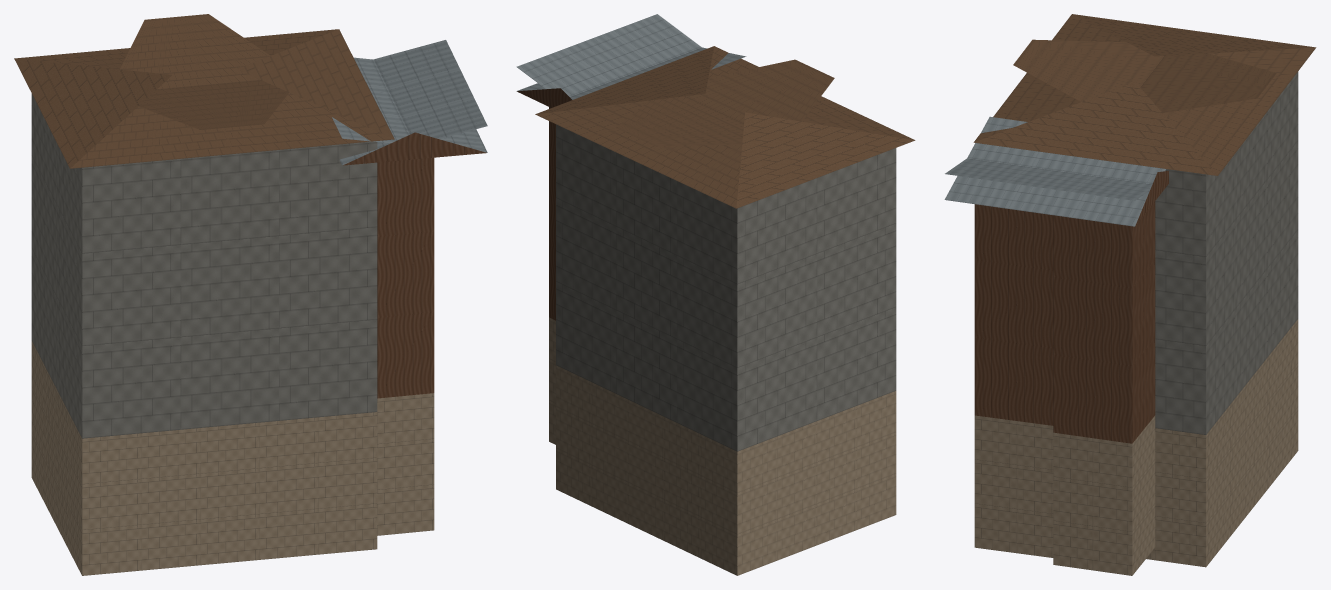
File: bld_c10_8_510.gltf
3 renders of one model, left to right at view 1: azimuth 30°, elevation 25°; view 2: azimuth 150°, elevation 25°; view 3: azimuth 270°, elevation 25°, orthographic. The views are drawn at different scales.
Parts seen in each view (by area): view 1: bld_c10_8_510; view 2: bld_c10_8_510; view 3: bld_c10_8_510.
Part boxes in pixels (x1,y1,x2,y2): bld_c10_8_510: (14,14,487,575); bld_c10_8_510: (516,14,915,575); bld_c10_8_510: (944,14,1316,575).
Bounding box in the file's own units: 15.89 × 16.4 × 13.01.
Materials: 6 (6 with a texture image).
